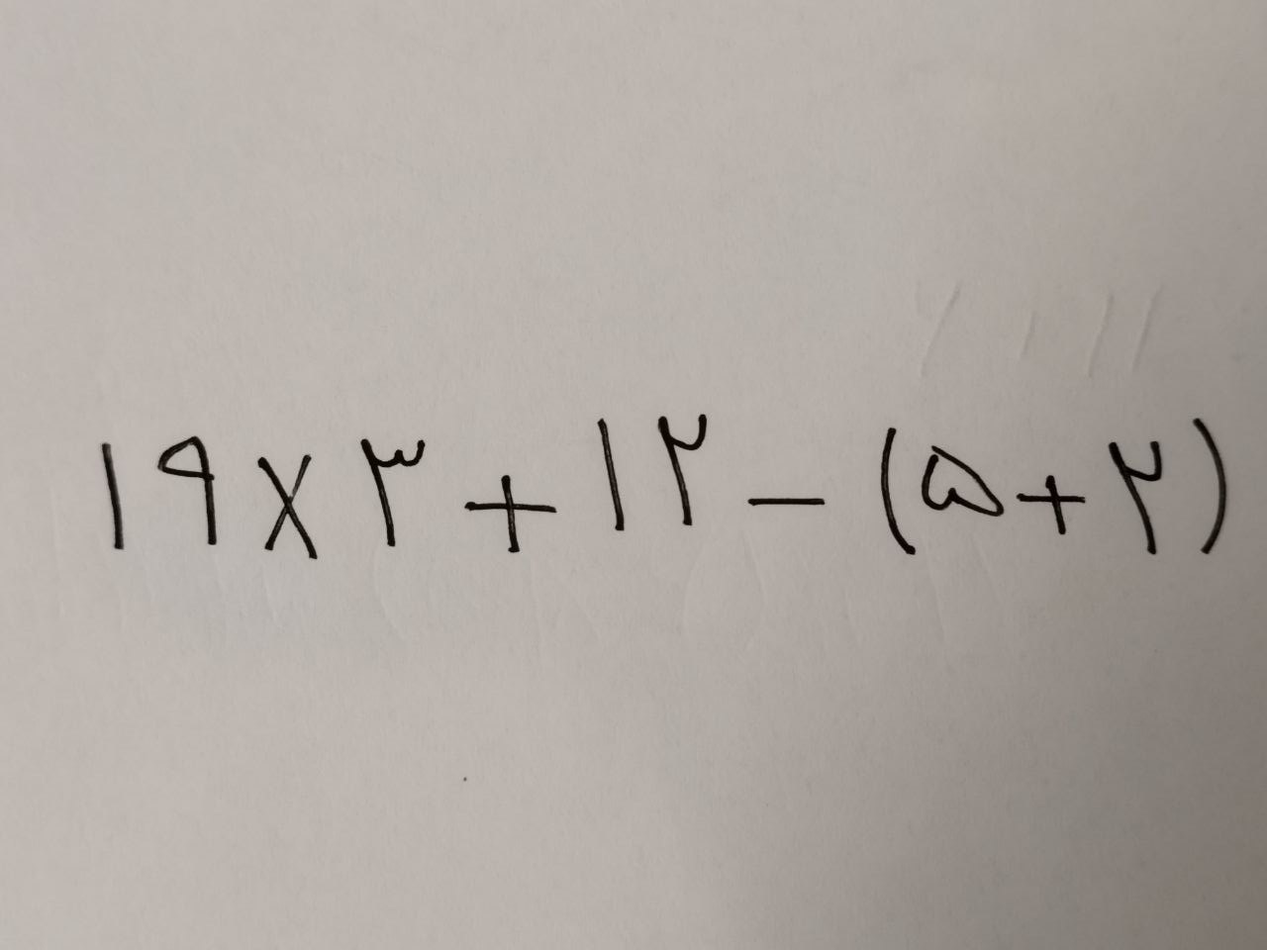character: (617, 356, 742, 415), (209, 327, 299, 408), (482, 329, 567, 411), (341, 340, 424, 421), (877, 311, 944, 395), (1172, 320, 1225, 417), (795, 312, 835, 400), (132, 330, 168, 413), (1226, 333, 1267, 388), (994, 372, 1106, 381)
